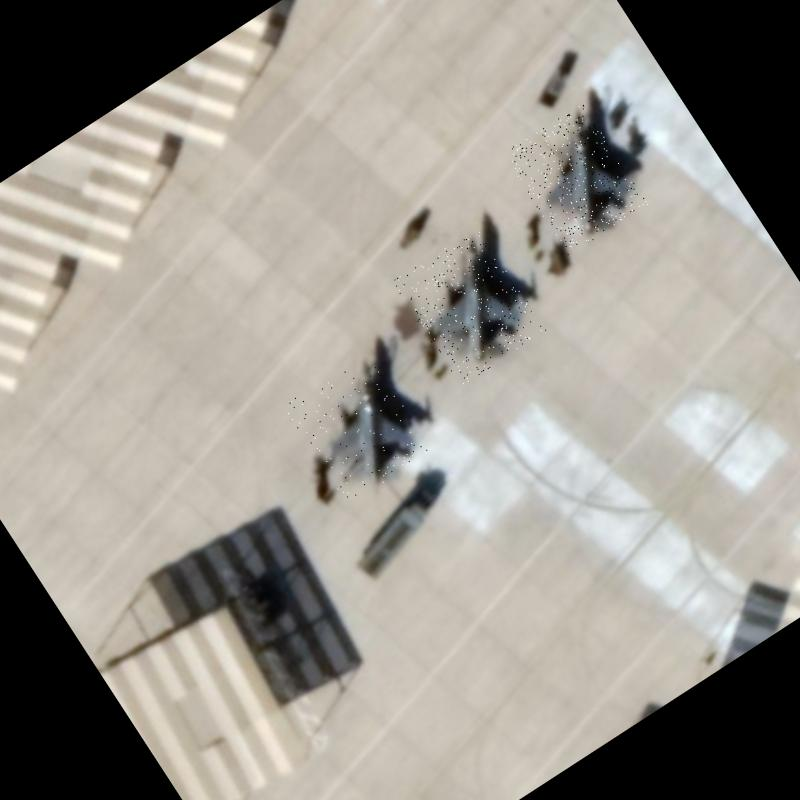A5: (392, 225, 547, 387), (283, 351, 434, 507), (503, 102, 648, 256)
